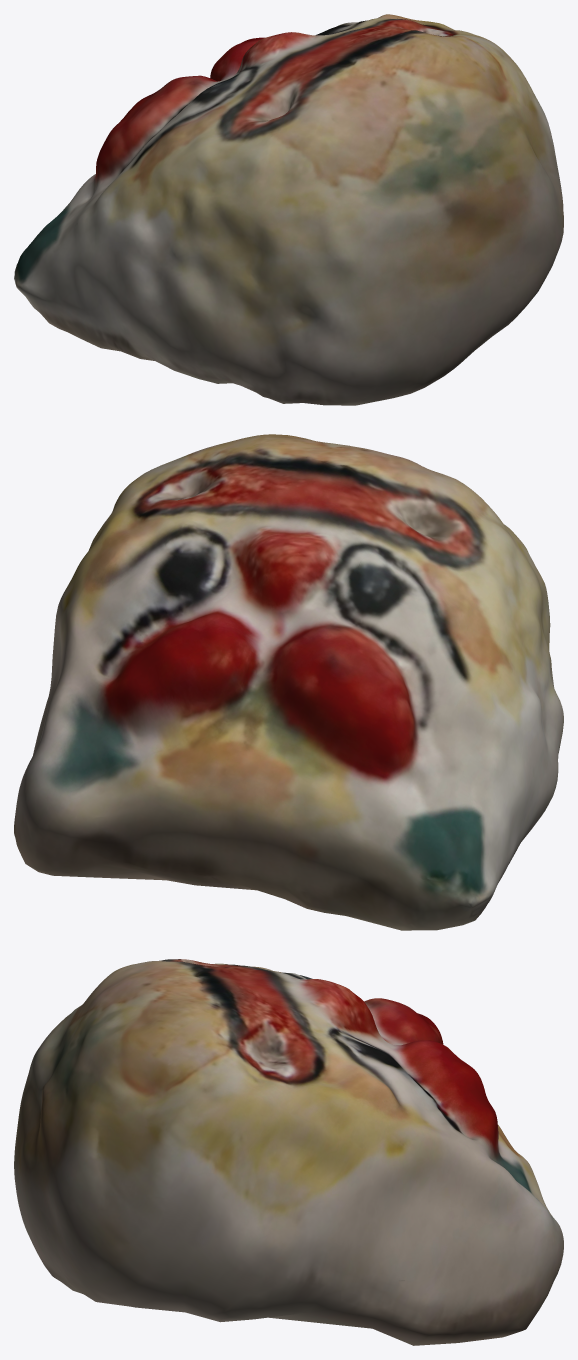
3 renders of one model, top to bottom at view 1: azimuth 30°, elevation 25°; view 2: azimuth 150°, elevation 25°; view 3: azimuth 270°, elevation 25°, orthographic. The views are drawn at different scales.
Size of the model in its own units: 0.3958 by 0.2661 by 0.4063.
1 material, 1 textured.
